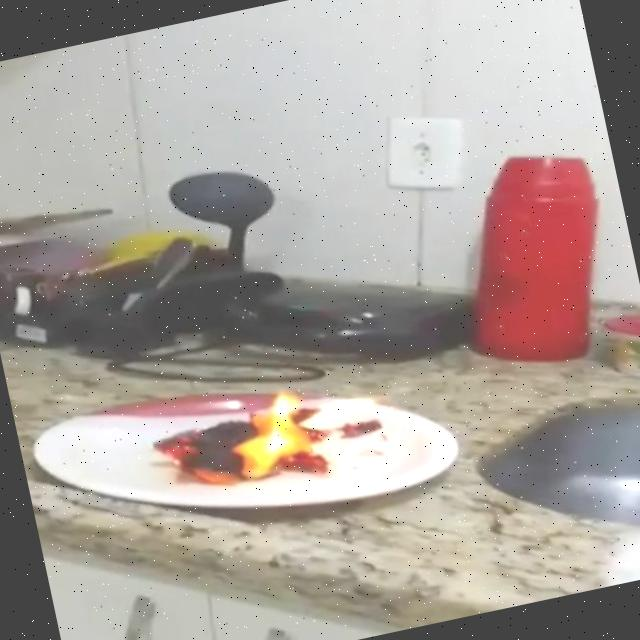fire: (134, 344, 363, 531)
